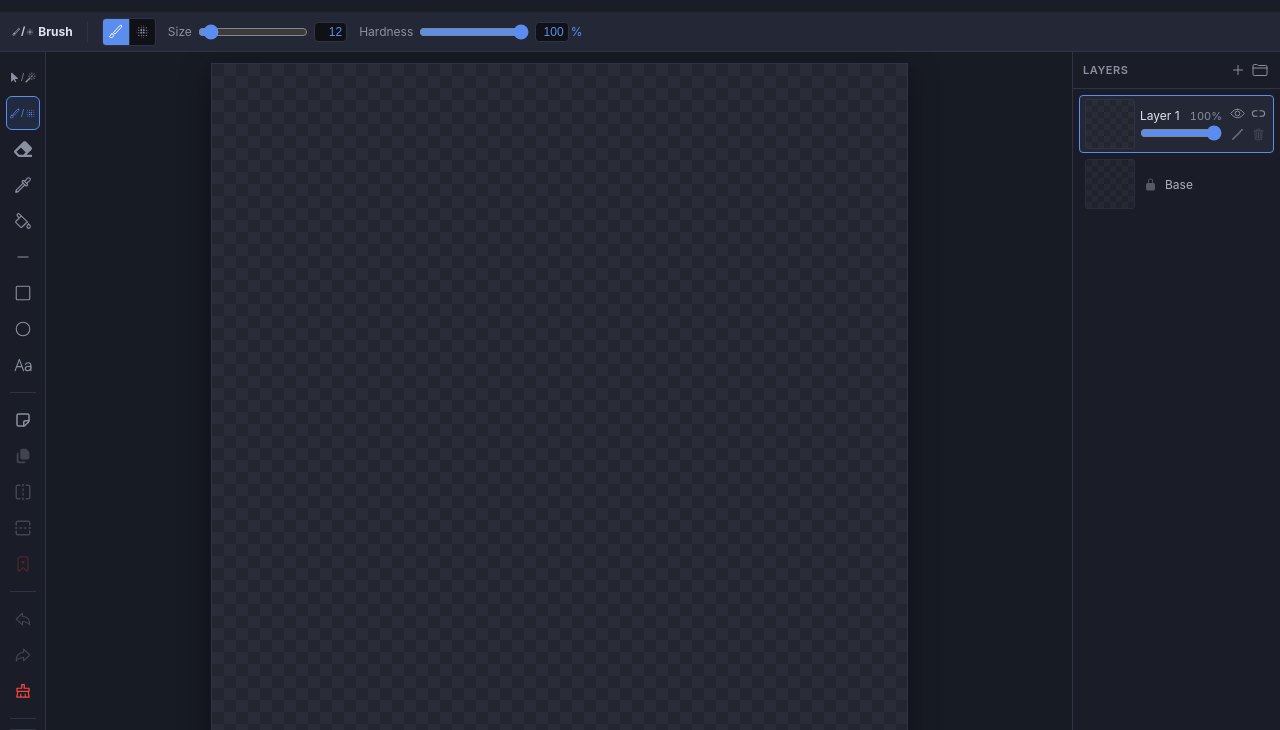
Test case: layer panel — structure › hides the last visible layer (the solo layer can be hidden)
Click the button named "Hide layer". click: (1237, 114)
box: x1=1227 y1=104 x2=1247 y2=124
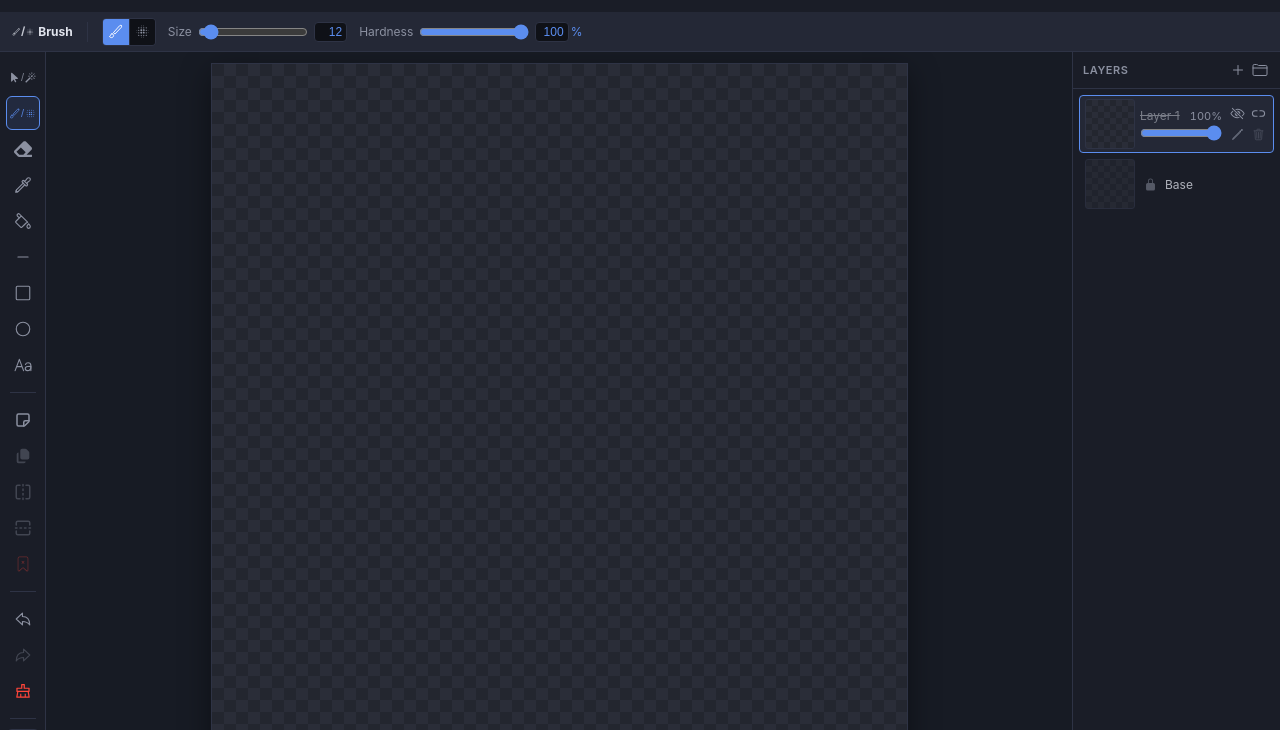
Now the button named "Show layer" is shown
Click the button named "Show layer". click: (1237, 114)
box: x1=1227 y1=104 x2=1247 y2=124
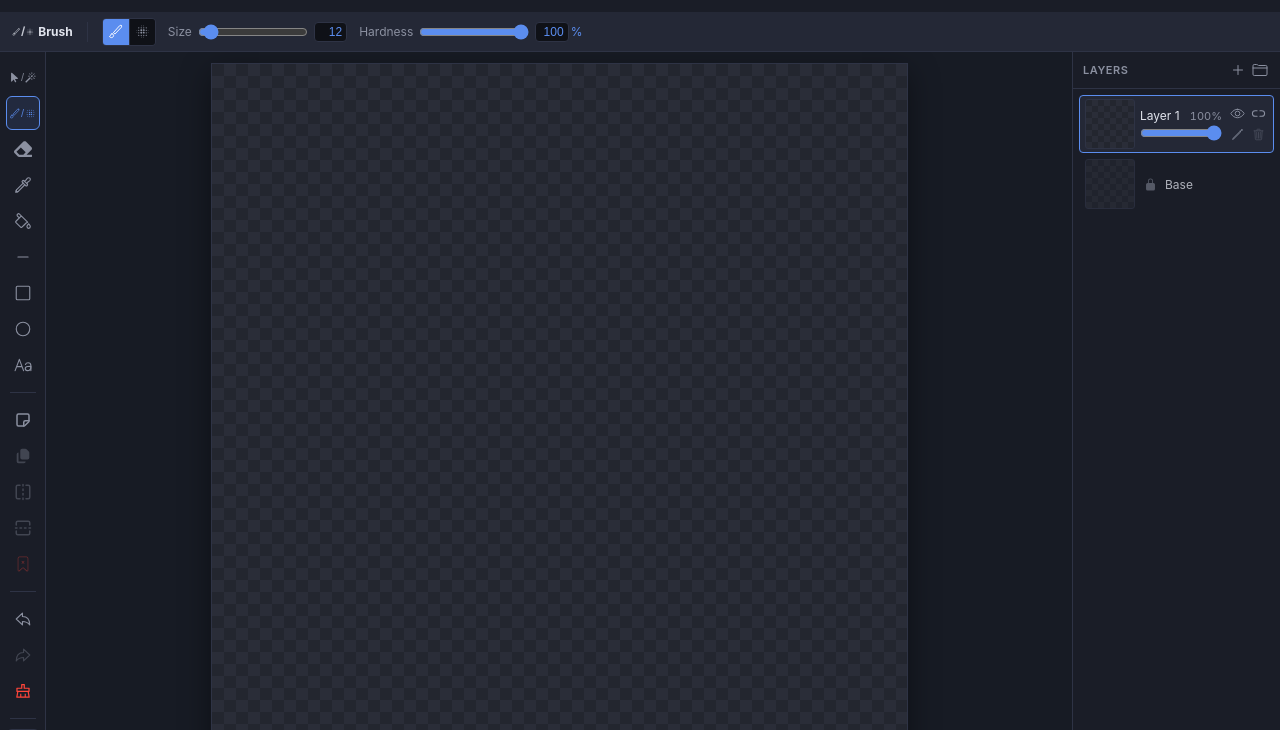
Now the button named "Hide layer" is shown, box x1=1227 y1=104 x2=1247 y2=124
